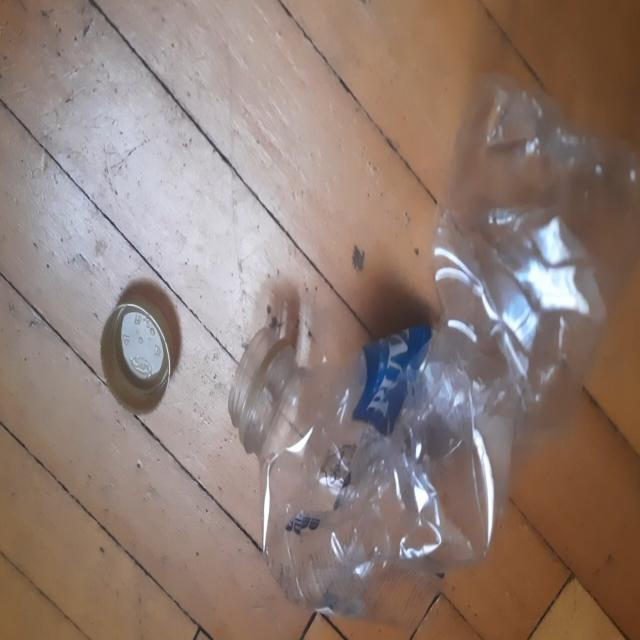Plastic: (229, 76, 635, 618)
